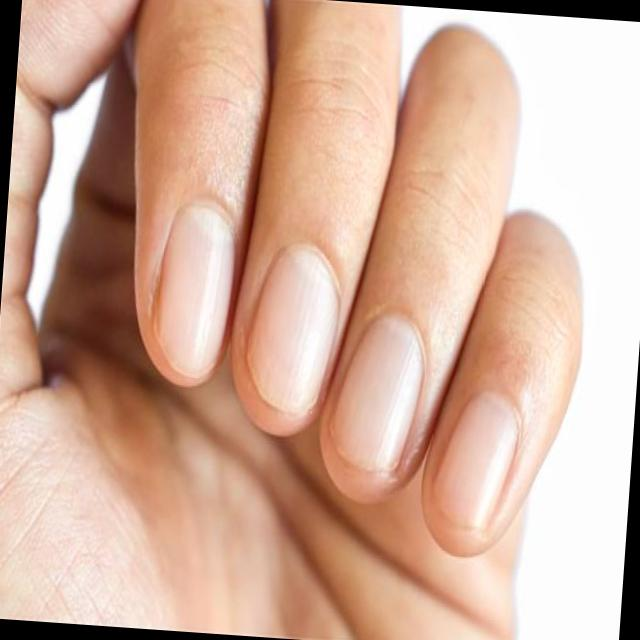Nail: (247, 243, 339, 414), (330, 314, 424, 472), (155, 202, 235, 377), (433, 392, 518, 529)
